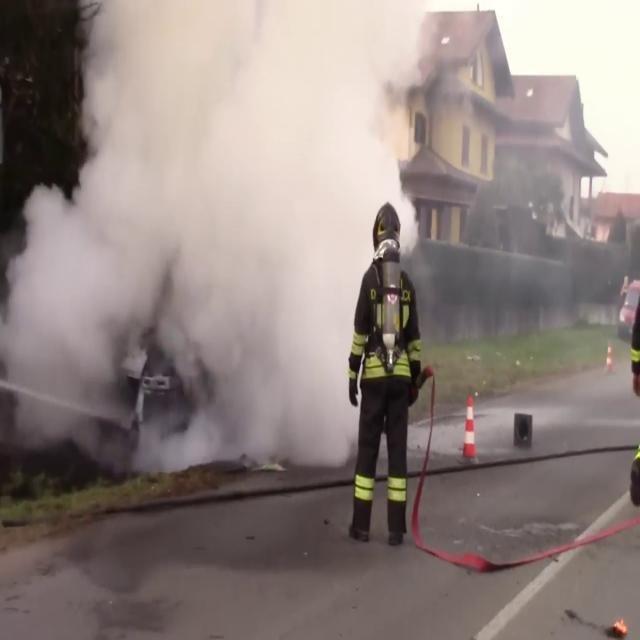Smoke: (1, 0, 443, 461)
